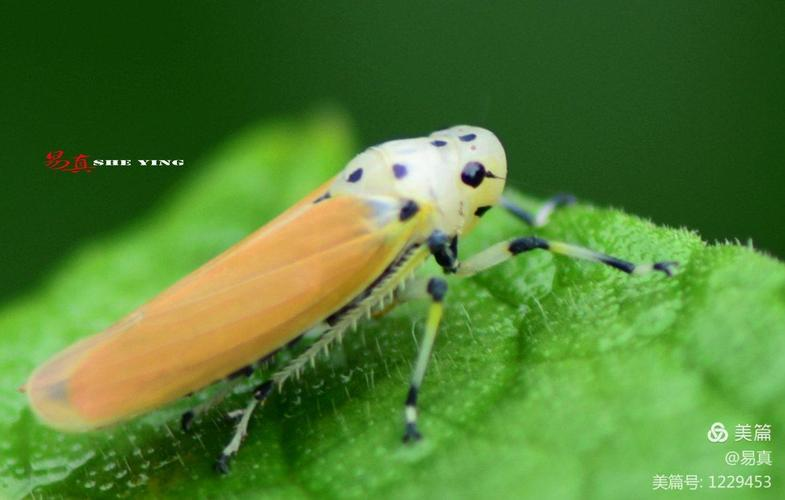Cicadellidae: (23, 125, 682, 463)
